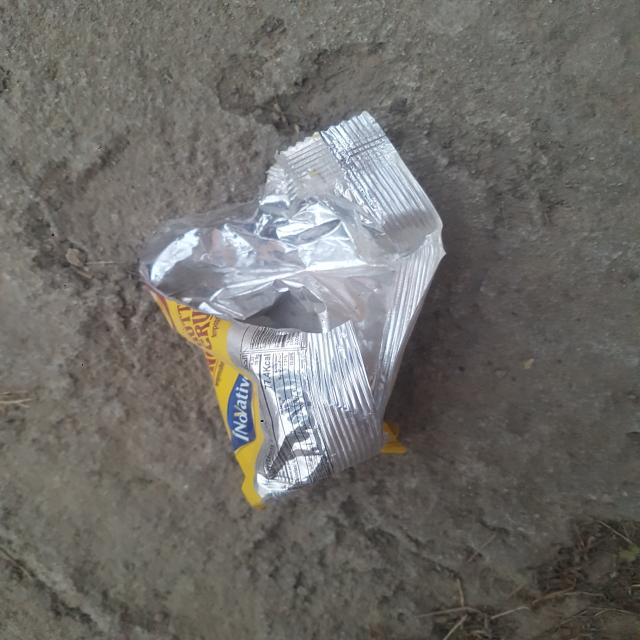electronic: (136, 110, 447, 508)
